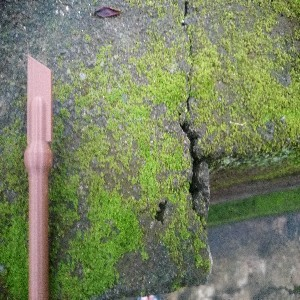cutter: (21, 52, 53, 300)
